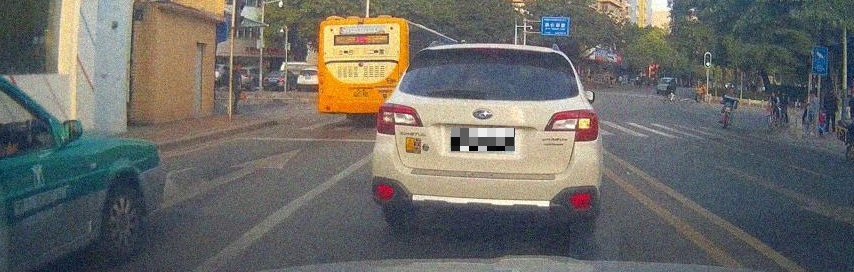L_light: (374, 102, 423, 134)
R_light: (543, 109, 599, 142)
T_light: (472, 48, 503, 54)
day-right: (372, 46, 602, 231)
plate_1: (451, 128, 515, 151)
